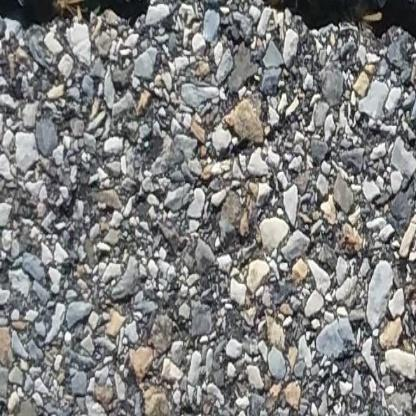Cracks: (247, 0, 416, 43), (0, 0, 172, 28)
